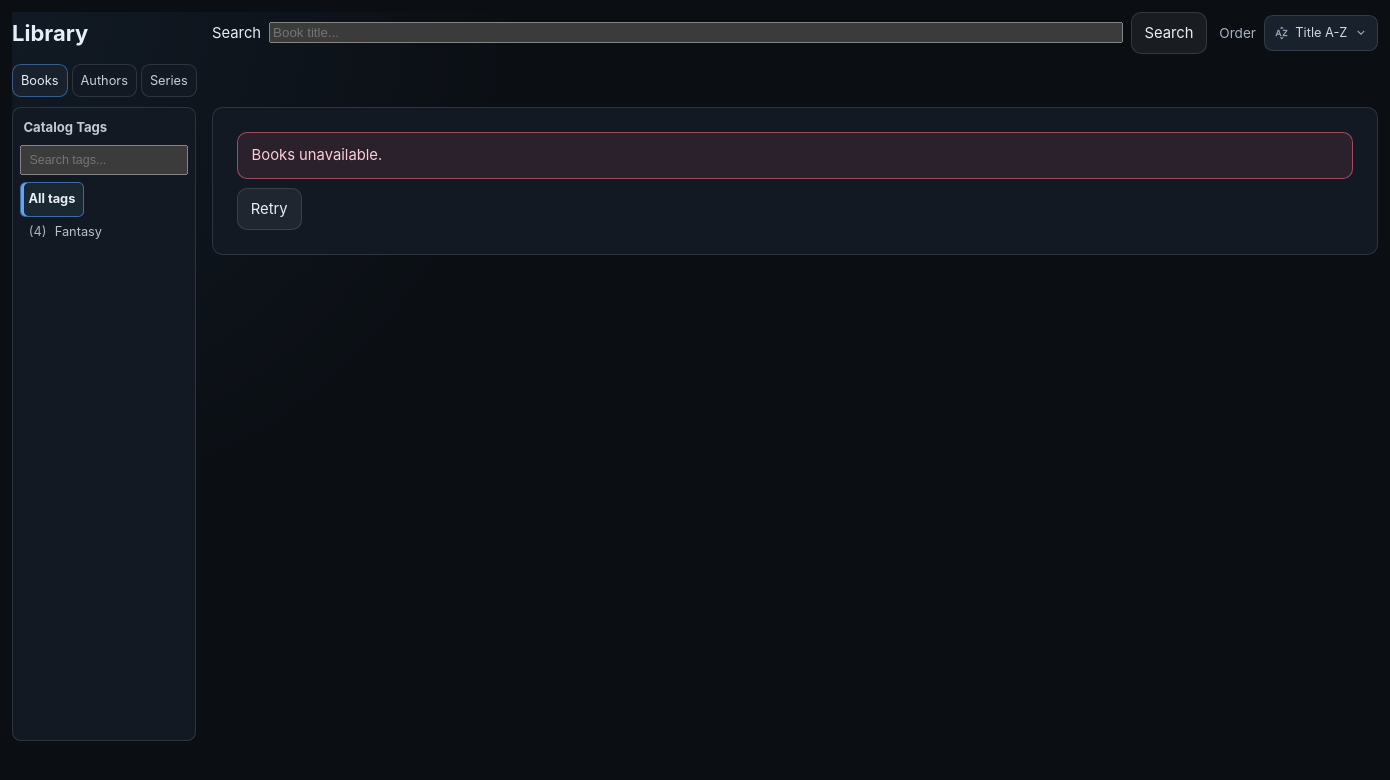
Scenario: LibraryOrchestrator browse behavior › retries a failed Book request without reloading the already available tag scope
The width and height of the screenshot is (1390, 780).
Expected: the message "Books unavailable." is shown, [237, 132, 1353, 178]
Click the button "Retry" at (269, 209), box [237, 188, 302, 230]
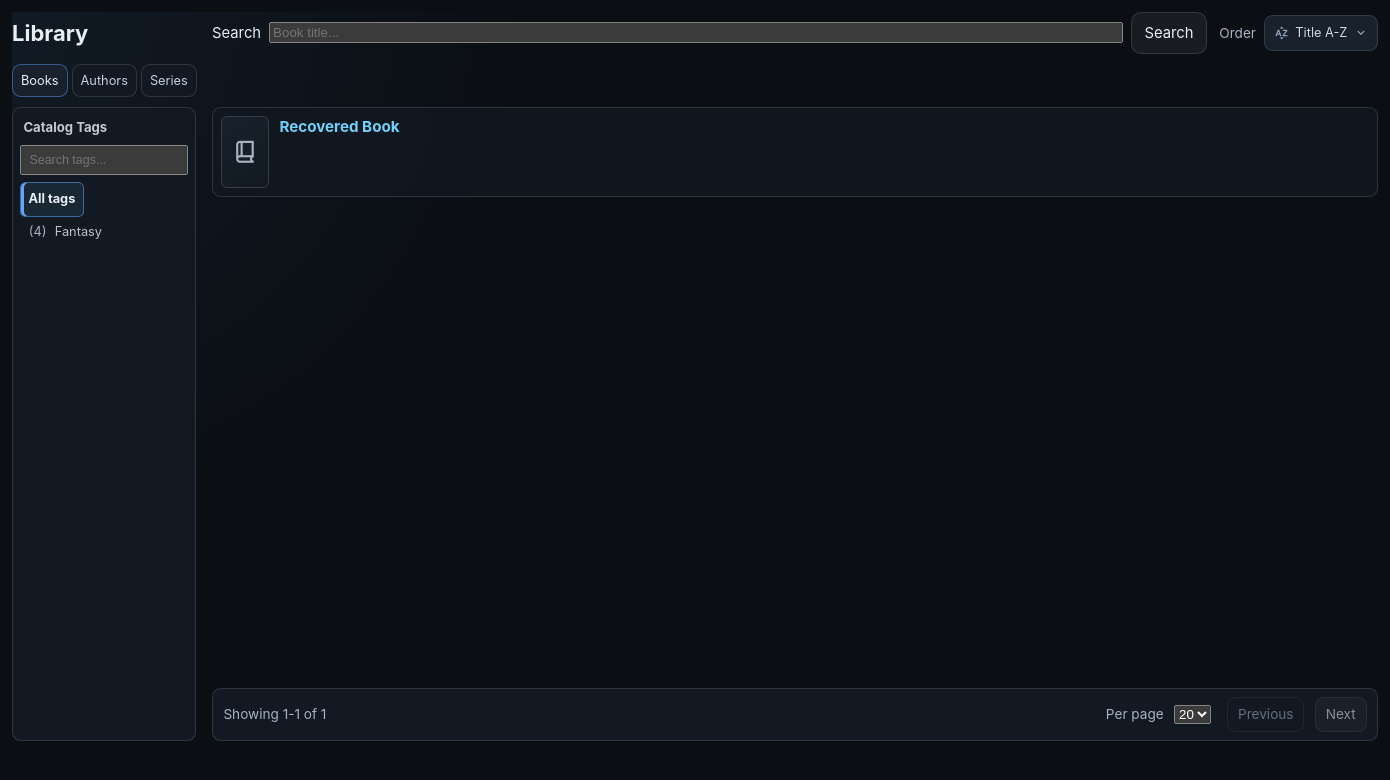
Expected: the link to "/library/books/recovered" is shown, [221, 116, 269, 188]
